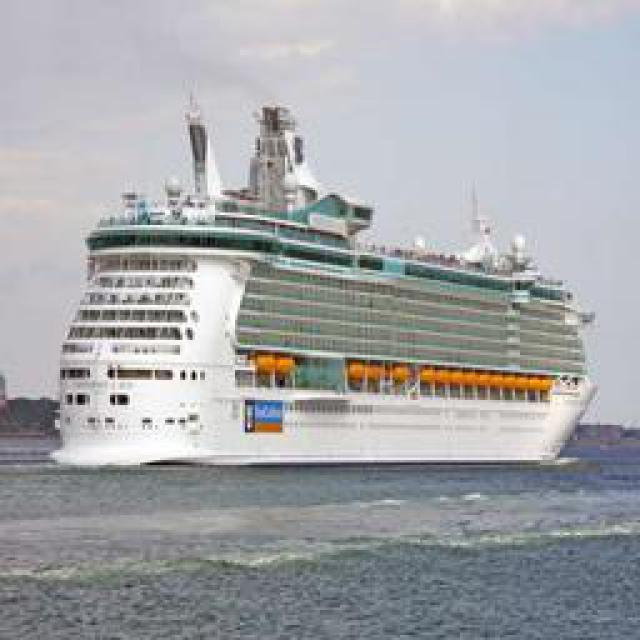Ship: (50, 107, 600, 475)
